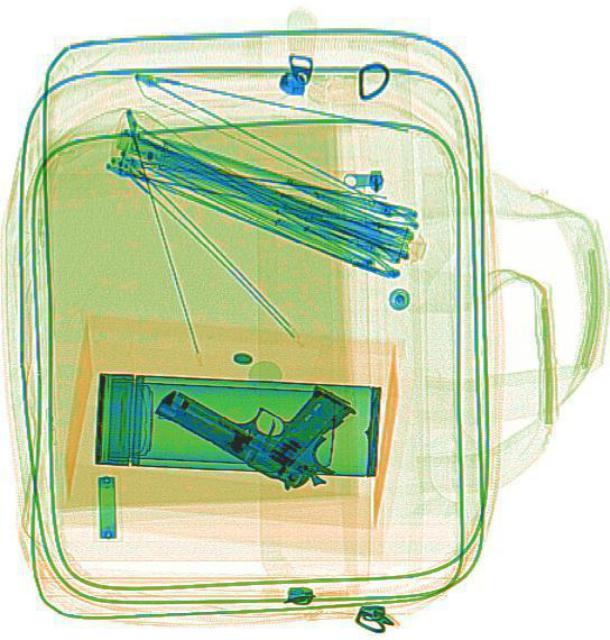Gun: (152, 320, 369, 502)
